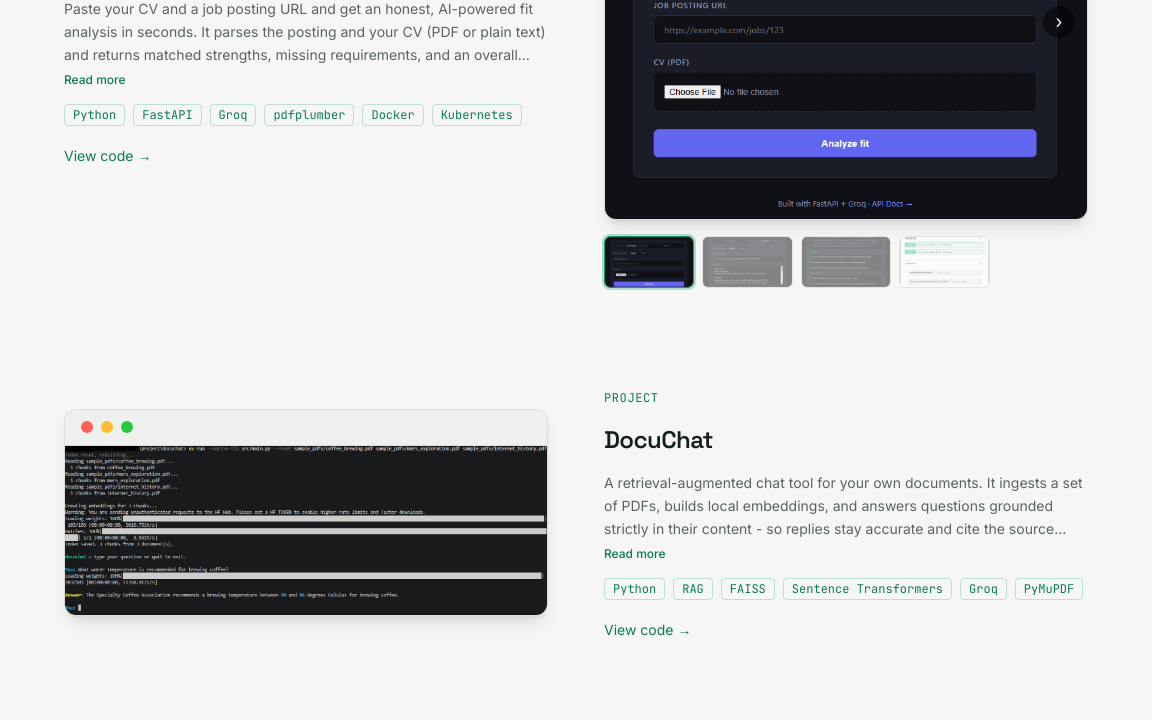
ProjectShowcase › opens a lightbox dialog and closes it with Escape
(page scrolled)
Click the button named "Enlarge DocuChat screenshot 1" at point(306, 530), box [65, 446, 547, 615]
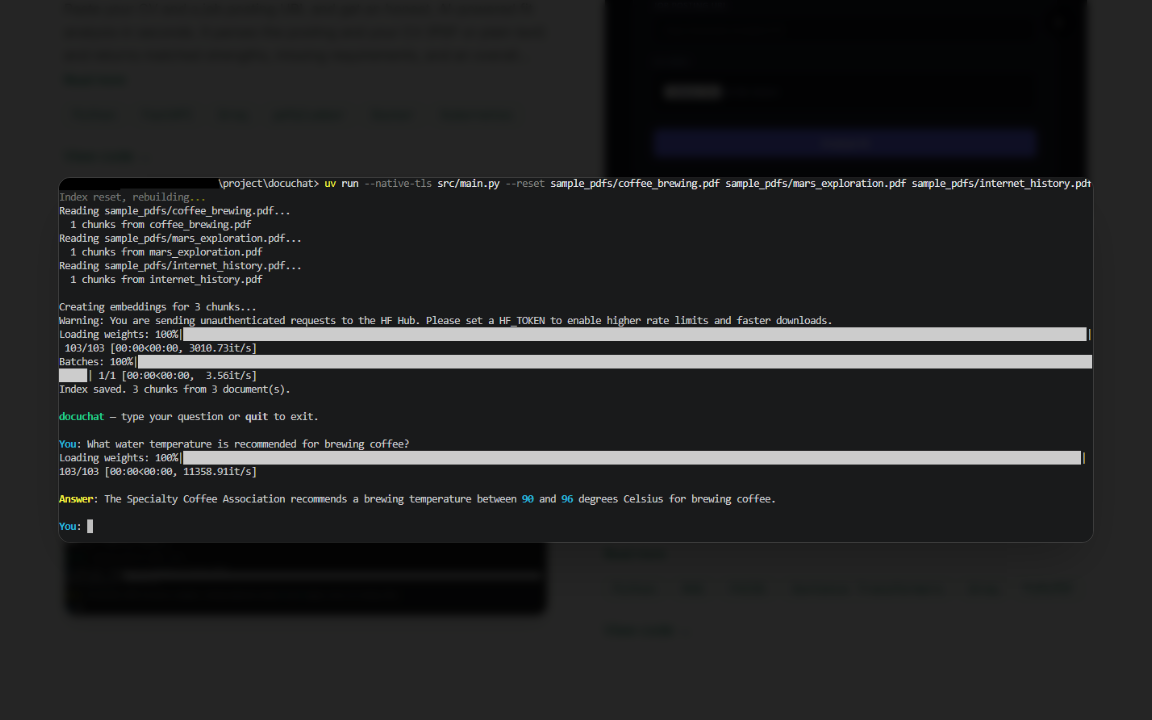
Expected: the dialog named "DocuChat screenshot 1" is shown
Press Escape
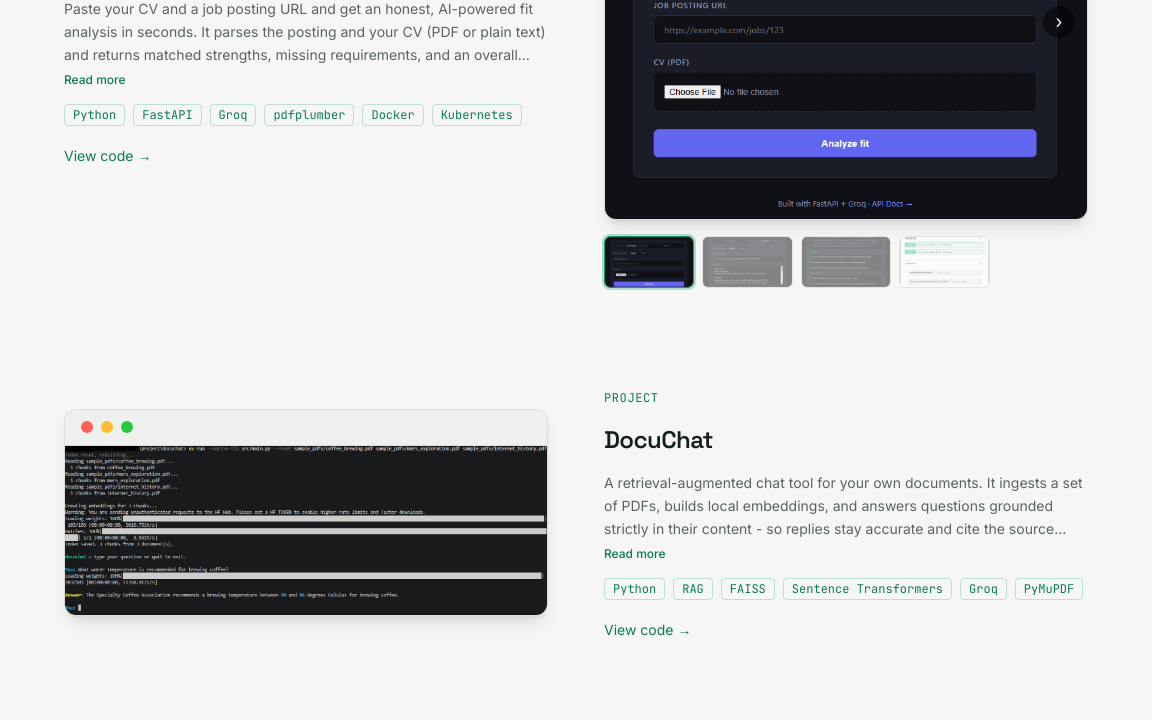
Expected: the dialog is gone
